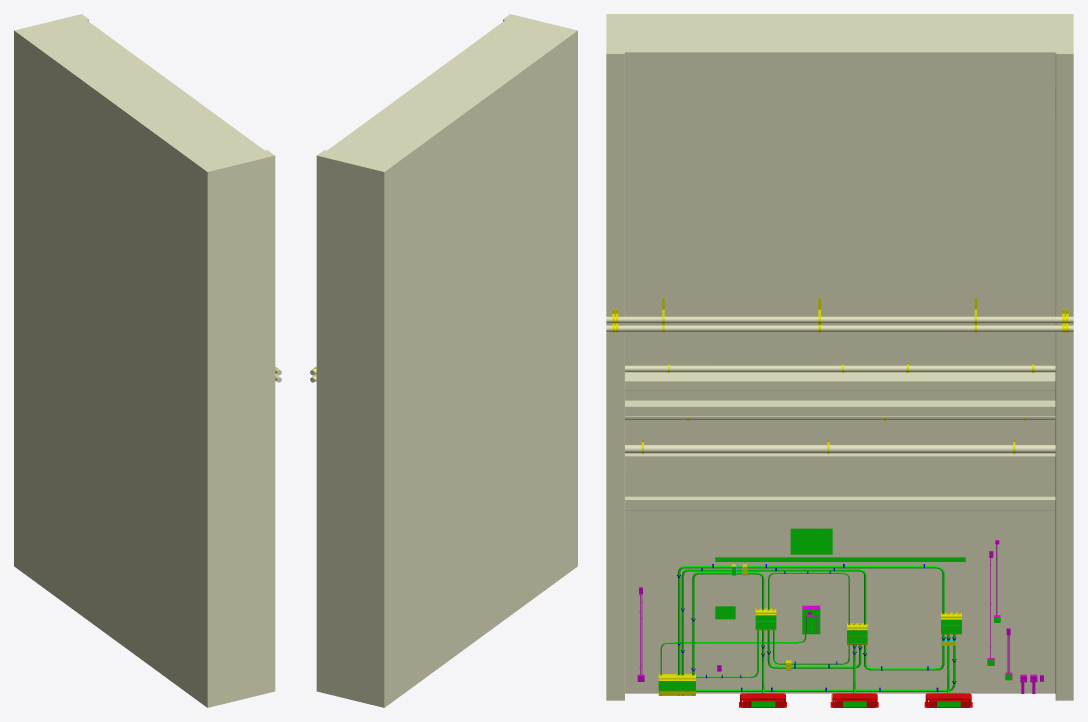
The model's file is wall_chargers_simple_GRP.fbx.
3 renders of one model, left to right at view 1: azimuth 30°, elevation 25°; view 2: azimuth 150°, elevation 25°; view 3: azimuth 270°, elevation 25°, orthographic. The views are drawn at different scales.
Parts seen in each view (by area): view 1: wall_chargers_01; view 2: wall_chargers_01; view 3: wall_chargers_01, wall_chargers_pipe_01, wall_chargers_wire_casing_01, decals_wall_chargers_simple, wall_chargers_network_front_01, wall_chargers_wiring_01, wall_chargers_u_brackets_01.
Part boxes in pixels (x1,y1,x2,y2): wall_chargers_01: (14,14,275,707); wall_chargers_01: (316,14,577,707); wall_chargers_01: (606,14,1073,700); wall_chargers_pipe_01: (606,316,1073,453); wall_chargers_wire_casing_01: (660,566,955,693); decals_wall_chargers_simple: (658,528,1011,707); wall_chargers_network_front_01: (658,564,961,695); wall_chargers_wiring_01: (637,540,1043,693); wall_chargers_u_brackets_01: (612,297,1068,453).
Bounding box in the file's own units: 144 × 917 × 600.
